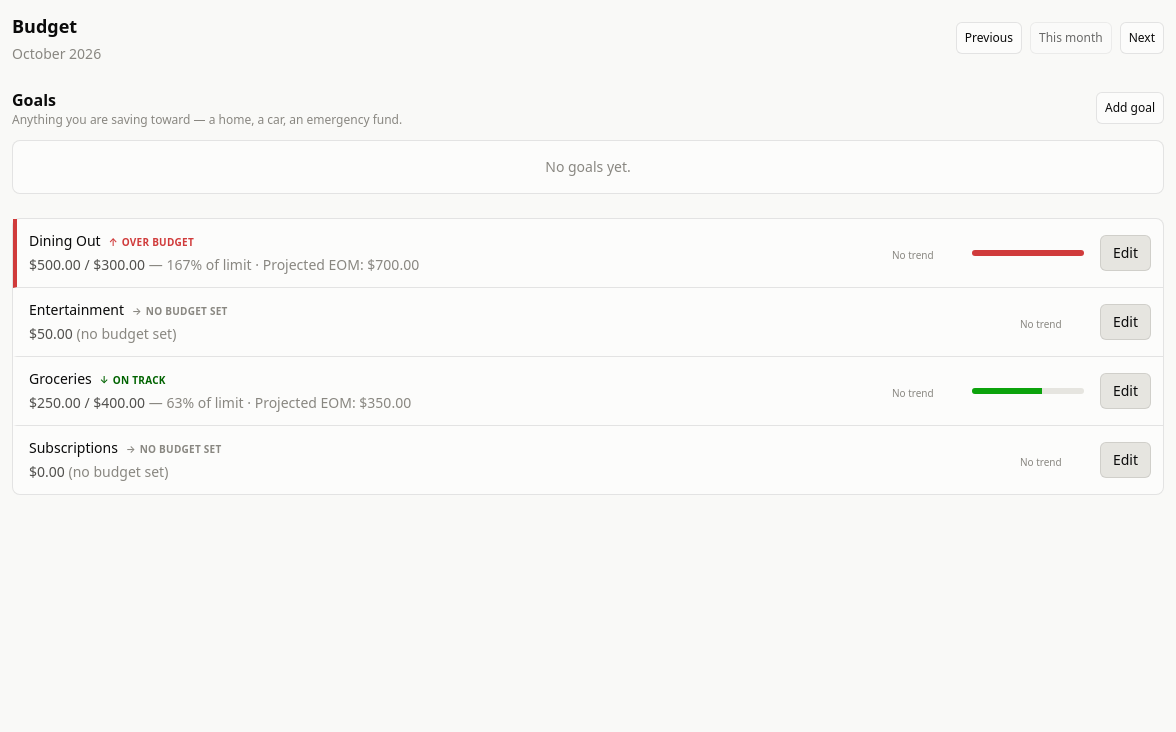
Test case: BudgetTab › offers a category with no spend and no existing limit in the editor
expect the heading "Subscriptions" is shown: met, box [29,438,118,458]
expect the text "No budget set" next to "Subscriptions" is shown: met, box [140,442,222,456]
Click the button "Edit" in the row of "Subscriptions": (1125, 460) [1100,442,1151,478]
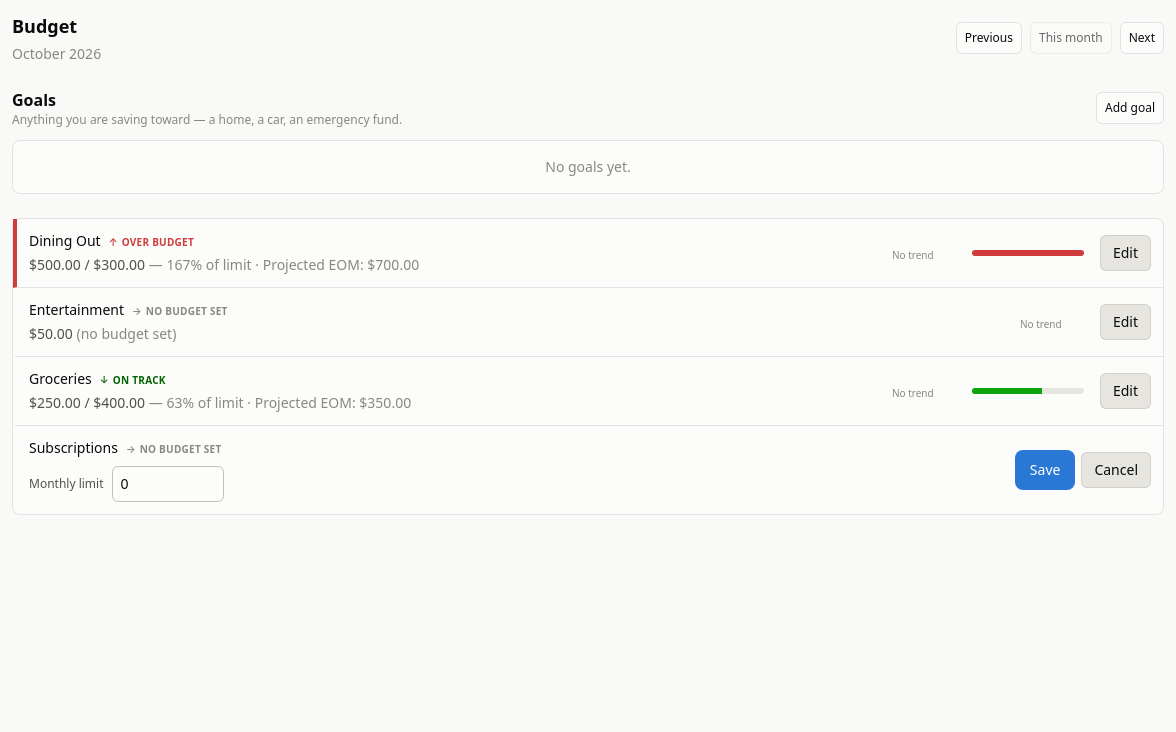
expect the number field showing "0" is shown: met, box [112,466,224,502]
